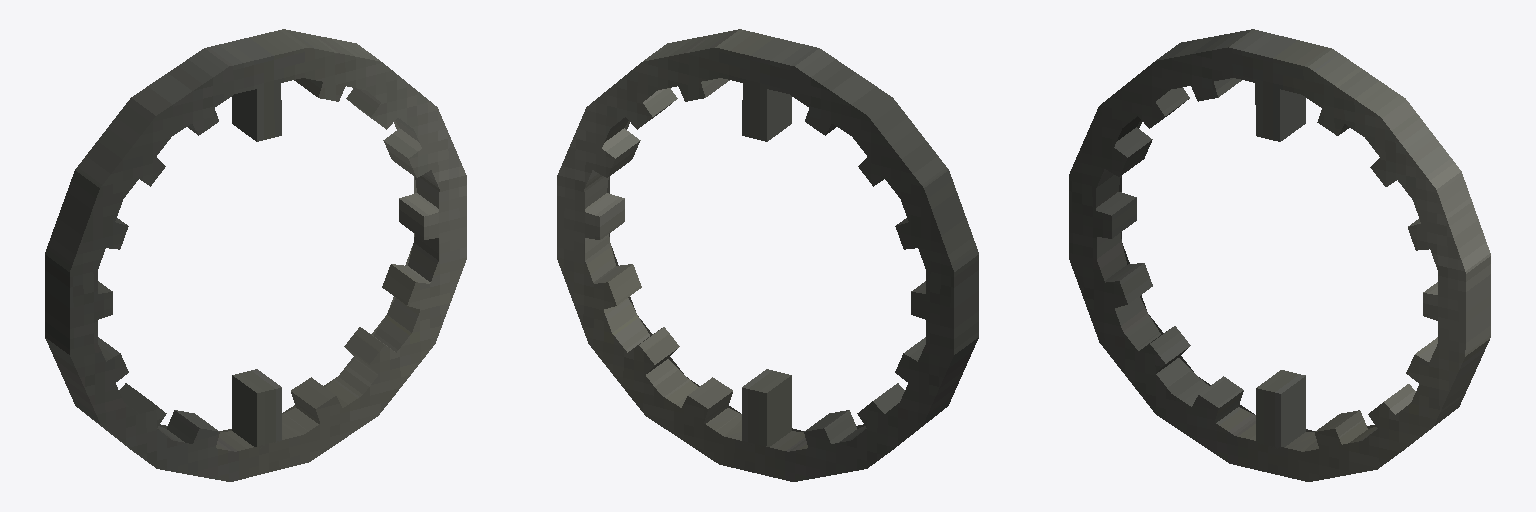
The picture shows the model from 3 angles: view 1: azimuth 30°, elevation 25°; view 2: azimuth 150°, elevation 25°; view 3: azimuth 330°, elevation 25°; orthographic projection.
Parts seen in each view (by area): view 1: Cube.002; view 2: Cube.002; view 3: Cube.002.
Part boxes in pixels (x1,y1,x2,y2): Cube.002: (45, 29, 466, 481); Cube.002: (557, 29, 978, 481); Cube.002: (1069, 29, 1490, 481).
Size of the model in its own units: 0.8433 by 0.844 by 0.0922.
1 materials, 1 textured.